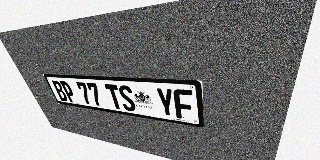7: (85, 83, 105, 107), (75, 82, 94, 105)
B: (51, 80, 69, 102)
F: (173, 89, 194, 120)
P: (59, 81, 78, 103)
S: (117, 85, 137, 112)
T: (104, 84, 124, 110)
Y: (155, 87, 176, 118)
